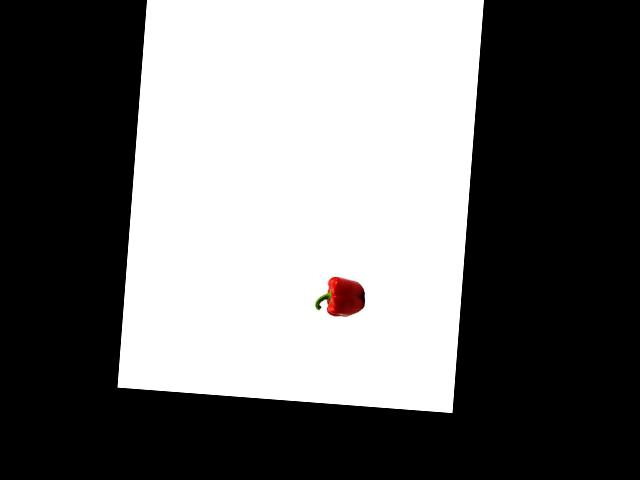bell_pepper: (313, 272, 368, 321)
